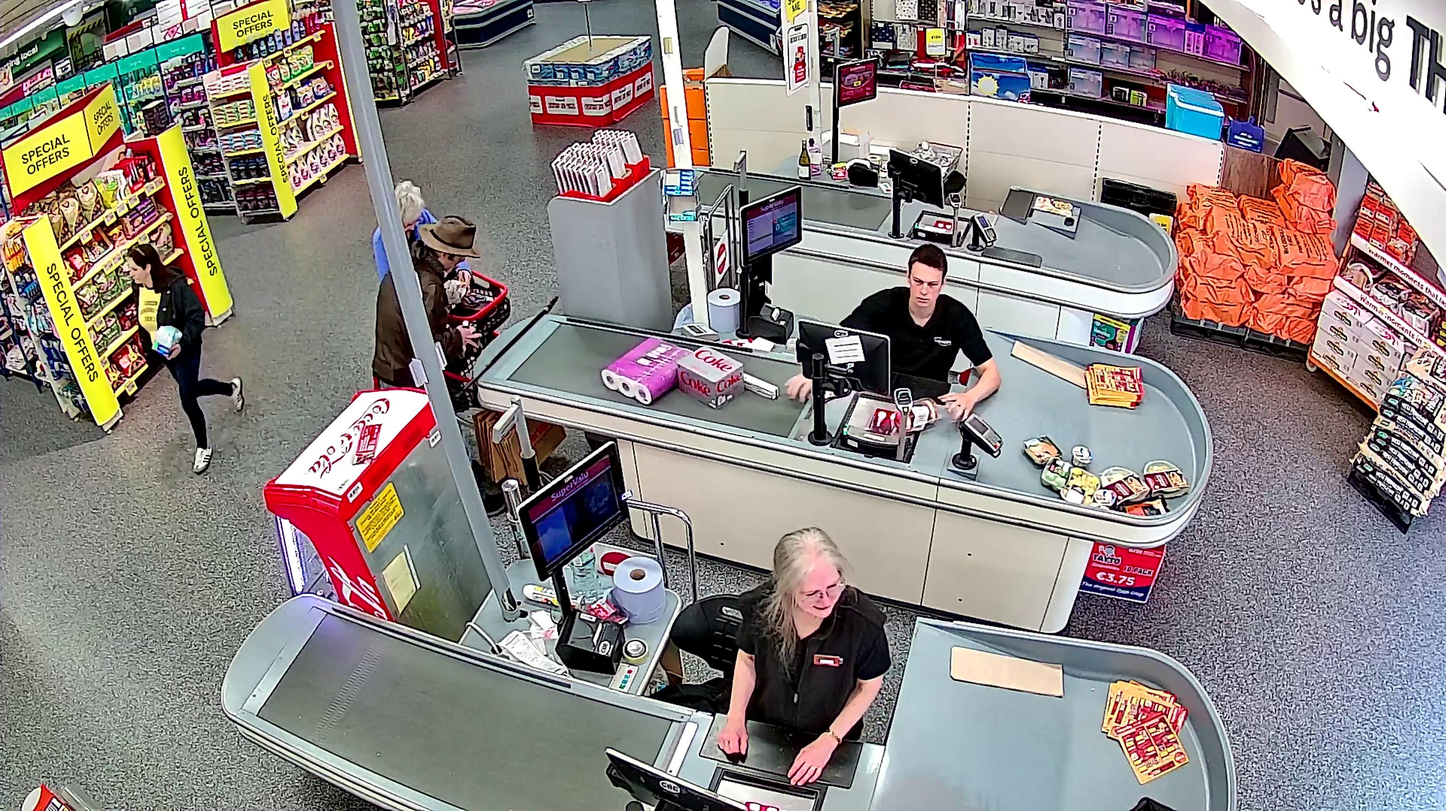carrying-item: (151, 323, 182, 359)
occupied-checkout-counter: (518, 439, 944, 811), (738, 182, 1008, 472)
person: (128, 244, 244, 473)
person-with-carrying-item: (128, 244, 244, 477)
vacant-checkout-counter: (831, 51, 1034, 250)
